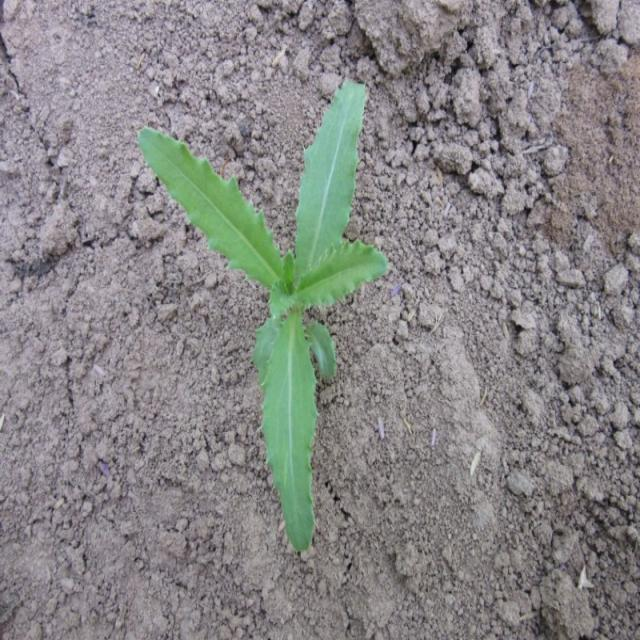field_thistle: (105, 89, 394, 552)
